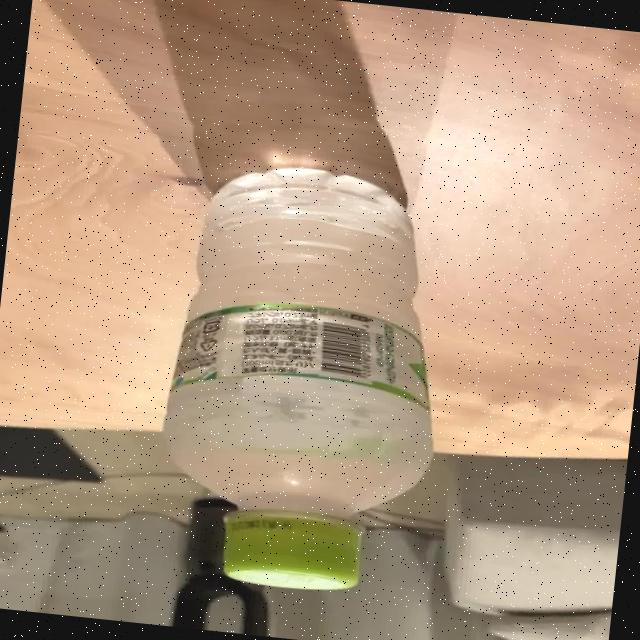bottle: (142, 152, 466, 604)
cap: (218, 496, 370, 596)
label: (150, 292, 447, 411)
